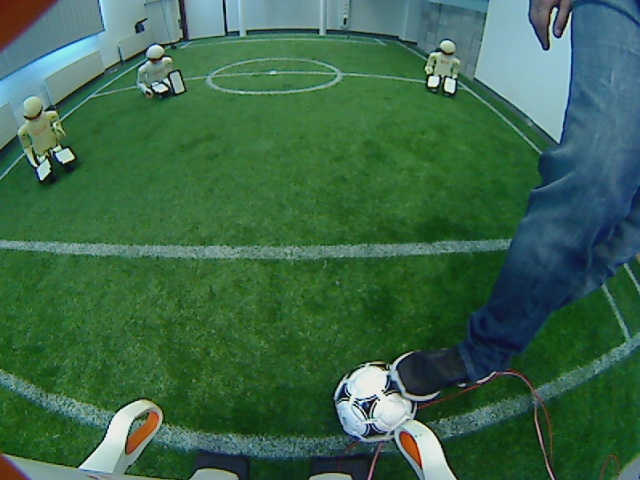ball: (331, 360, 420, 444)
robot: (15, 95, 82, 184), (133, 41, 188, 102), (422, 34, 463, 98)
